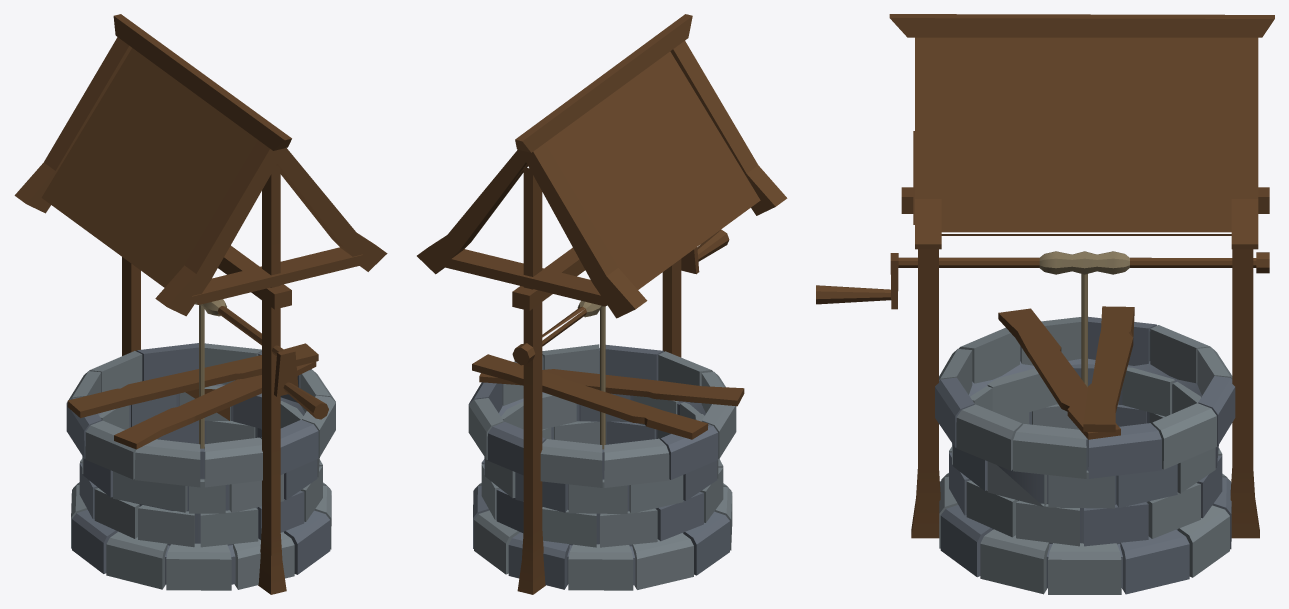
The model's file is well.glb.
3 renders of one model, left to right at view 1: azimuth 30°, elevation 25°; view 2: azimuth 150°, elevation 25°; view 3: azimuth 270°, elevation 25°, orthographic. The views are drawn at different scales.
Visible parts, largest first — view 1: well; view 2: well; view 3: well.
Part boxes in pixels (bbox=[...]): well: bbox=[14, 14, 387, 594]; well: bbox=[417, 14, 787, 594]; well: bbox=[816, 14, 1274, 594].
Size of the model in its own units: 1.49 by 2.79 by 2.24.
